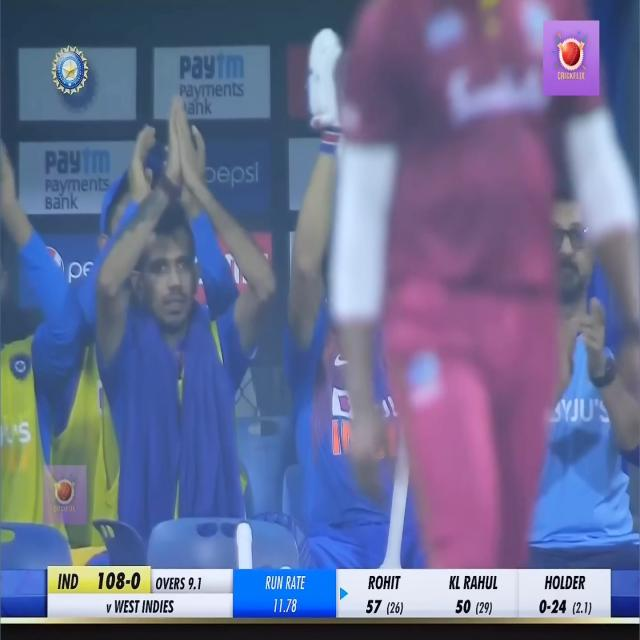fully_visible: (42, 141, 115, 178), (175, 44, 245, 82)
